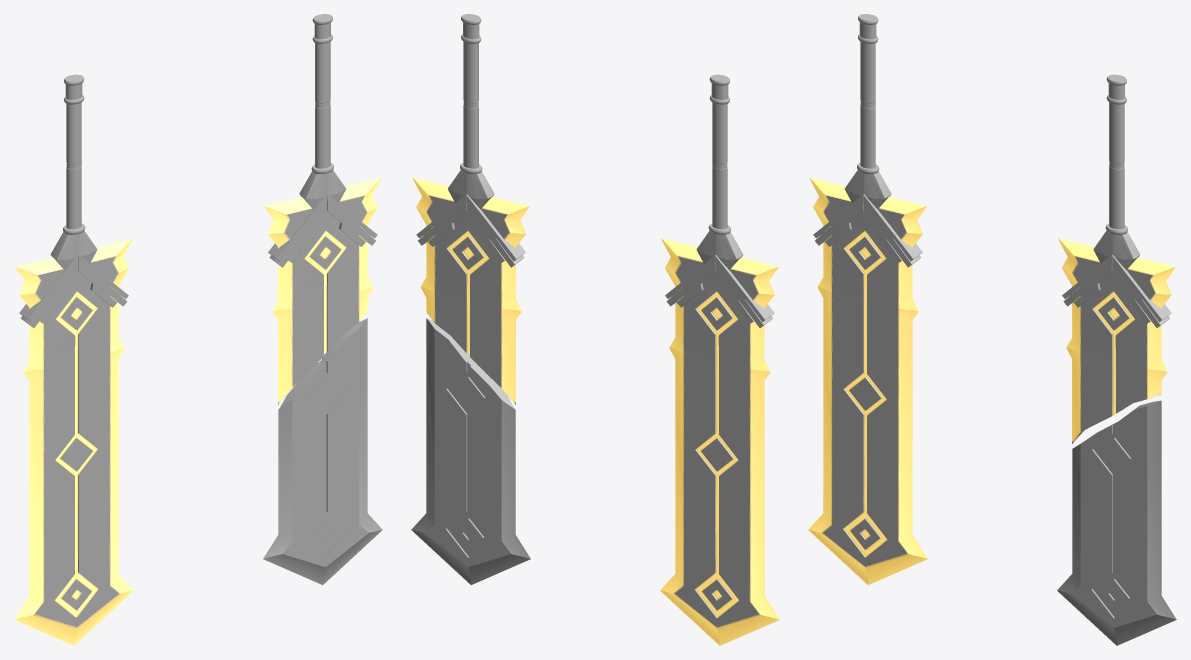
3 renders of one model, left to right at view 1: azimuth 30°, elevation 25°; view 2: azimuth 150°, elevation 25°; view 3: azimuth 330°, elevation 25°, orthographic.
Visible parts, largest first — view 1: Blade.002, Blade.001, Blade, Strap.001, Strap, Cable.001, Cable; view 2: Blade.002, Blade.001, Blade, Strap.001, Strap, Cable.001, Cable; view 3: Blade.002, Blade.001, Blade, Strap.001, Strap, Cable.001, Cable.
Part boxes in pixels (<box>): Blade.002: <box>14,238,133,645</box>; Blade.001: <box>263,318,382,584</box>; Blade: <box>264,177,381,404</box>; Strap.001: <box>19,231,128,327</box>; Strap: <box>268,170,377,267</box>; Cable.001: <box>63,74,85,234</box>; Cable: <box>311,14,333,173</box>; Blade.002: <box>660,238,779,645</box>; Blade.001: <box>411,318,530,584</box>; Blade: <box>412,177,529,404</box>; Strap.001: <box>665,231,774,327</box>; Strap: <box>416,170,525,267</box>; Cable.001: <box>708,74,730,234</box>; Cable: <box>460,14,482,173</box>; Blade.002: <box>808,177,927,584</box>; Blade.001: <box>1057,400,1176,645</box>; Blade: <box>1058,238,1175,443</box>; Strap.001: <box>813,170,922,267</box>; Strap: <box>1062,231,1171,327</box>; Cable.001: <box>857,14,879,173</box>; Cable: <box>1105,74,1127,234</box>.
Size of the model in its own units: 12.36 by 18.19 by 0.5577.
